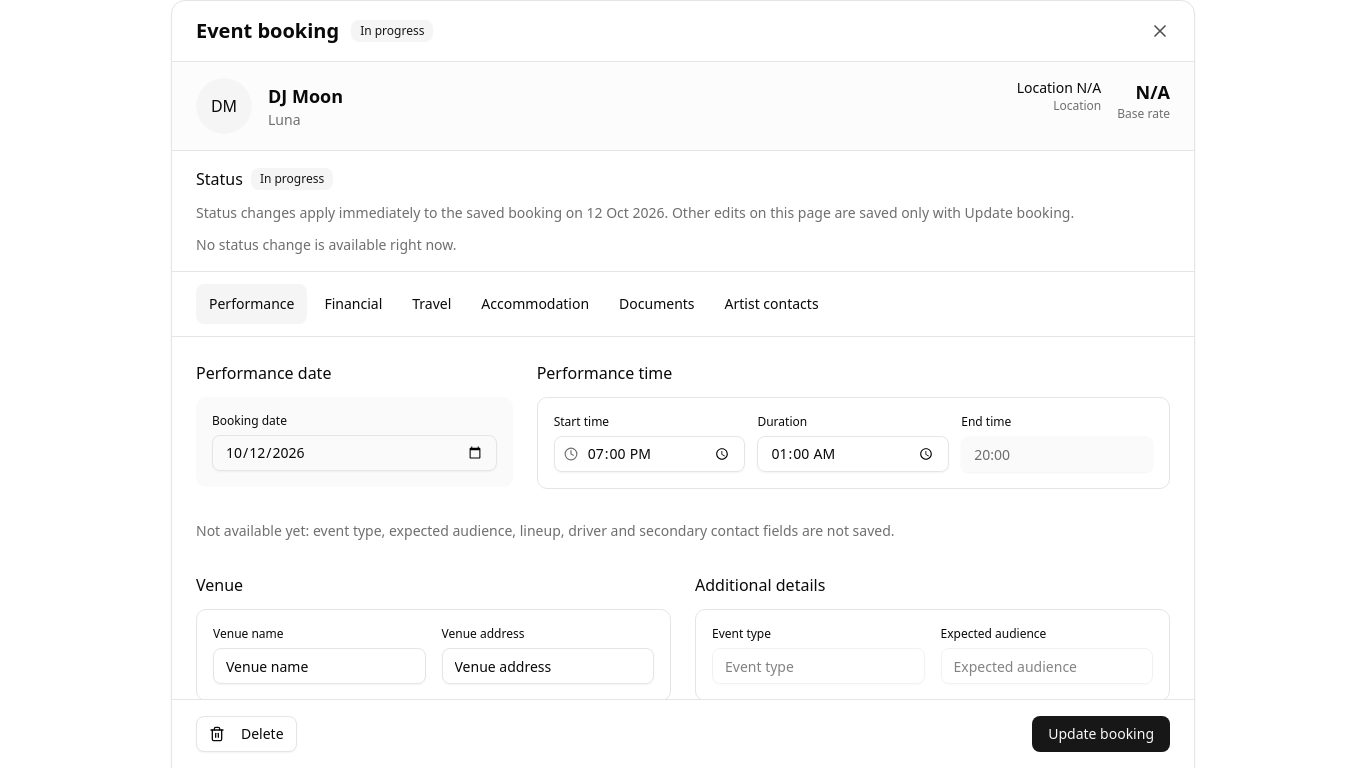
uses named keyboard tabs and retains Performance drafts across all panels
The width and height of the screenshot is (1366, 768).
Later steps or results of the test are not shown.
Type "Unsaved venue" into the field labelled "Venue name". click: (319, 666)
box: [213, 648, 426, 684]
(page scrolled)
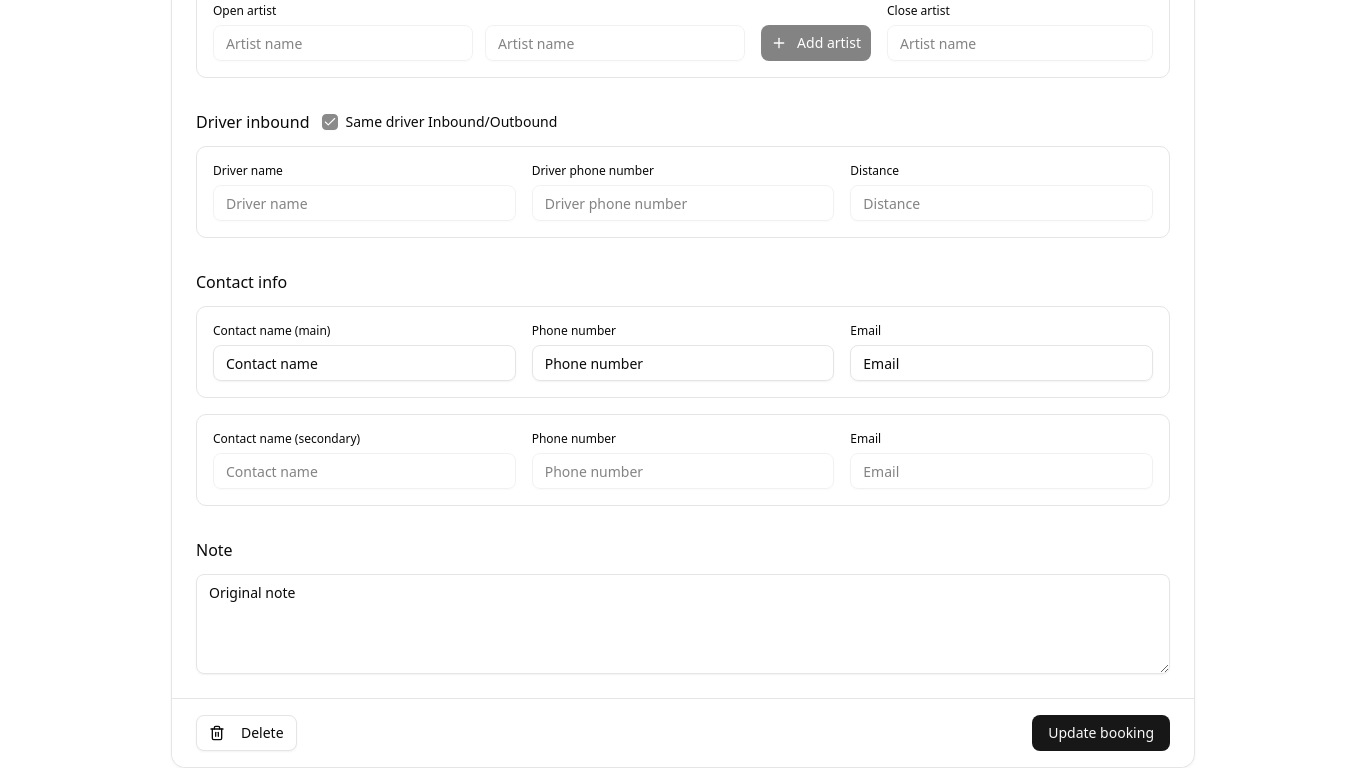
Replace the text in the text box labelled "Note" with "Unsaved note". click: (683, 624)
box: [196, 574, 1170, 674]
(page scrolled)
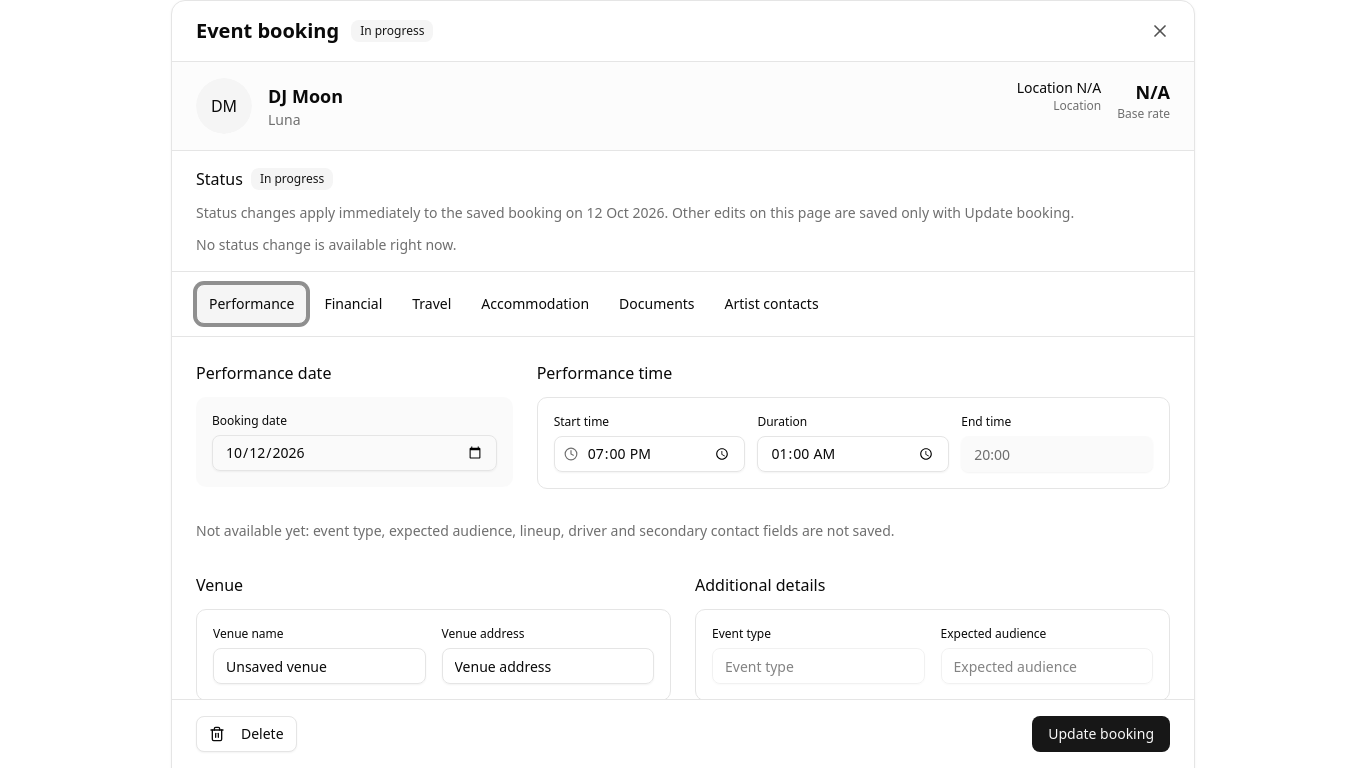
Press ArrowRight in the tab "Performance", box [196, 284, 307, 324]
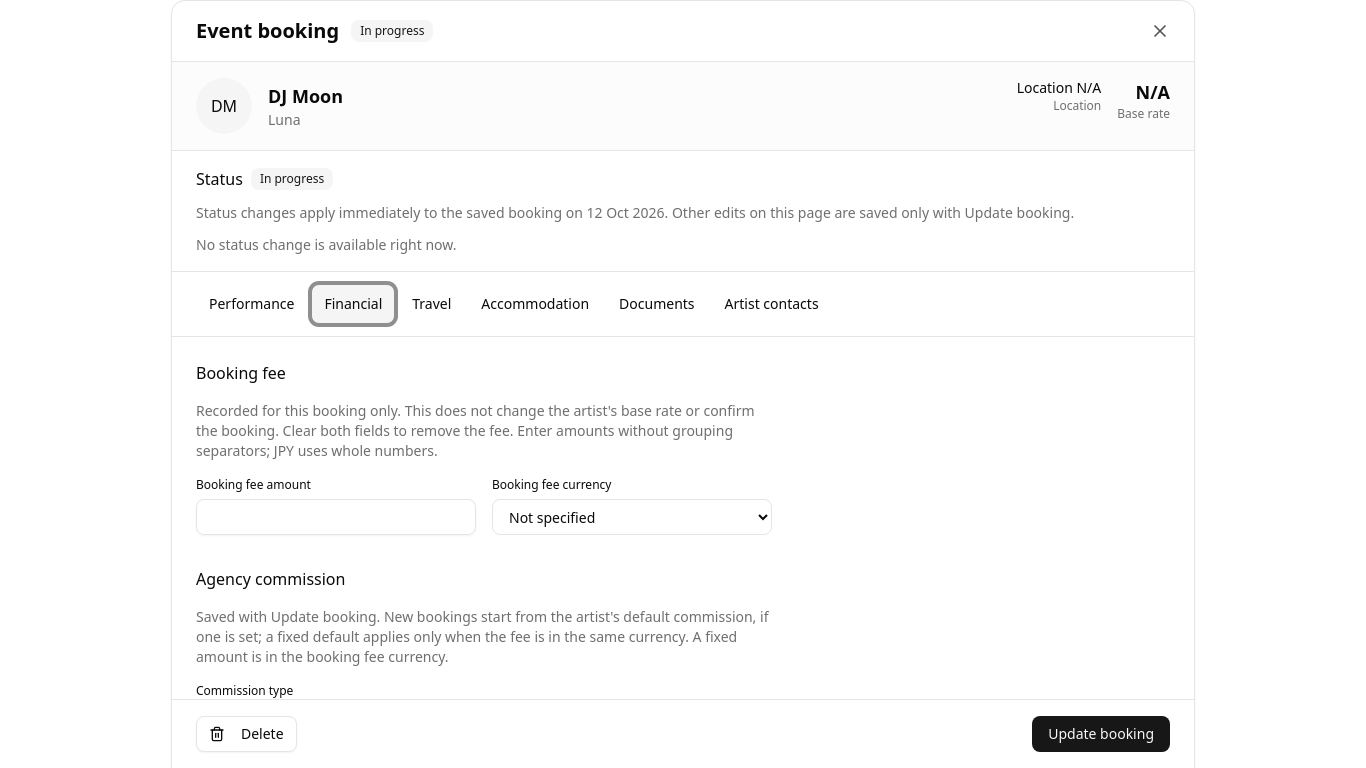
Now the field labelled "Booking fee amount" is shown, box [196, 499, 476, 535]
Press End in the tab "Financial", box [311, 284, 395, 324]
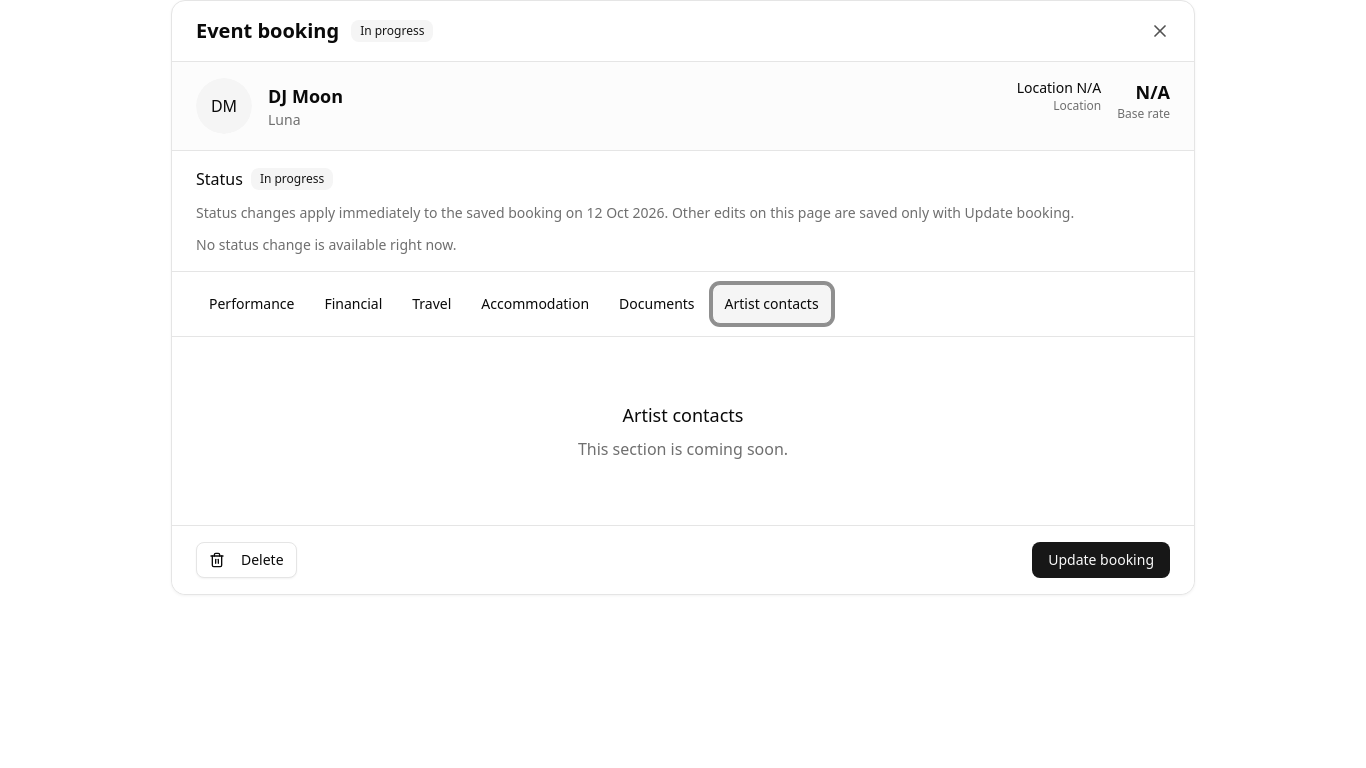
Press Home in the tab "Artist contacts", box [712, 284, 832, 324]
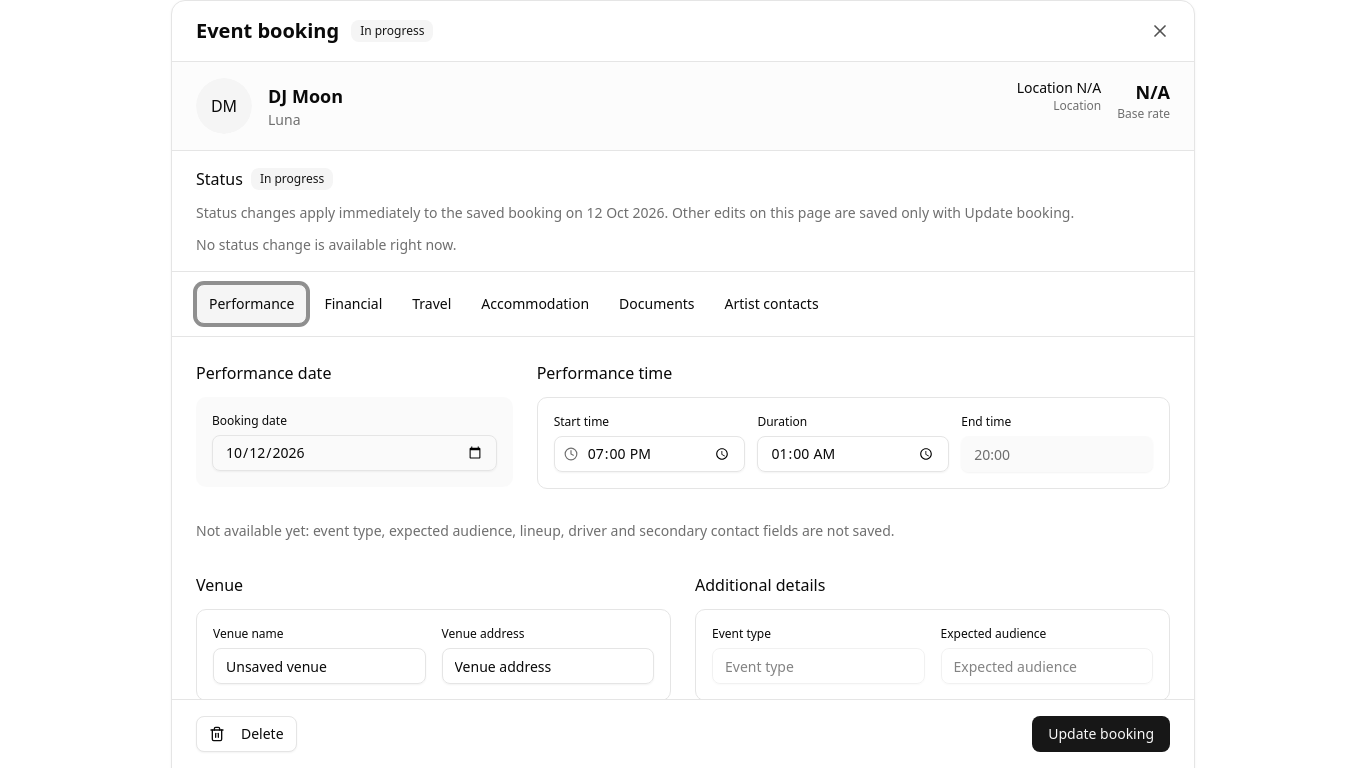
Now the field labelled "Venue name" holds "Unsaved venue", box [213, 648, 426, 684]
Press ArrowLeft in the tab "Performance", box [196, 284, 307, 324]
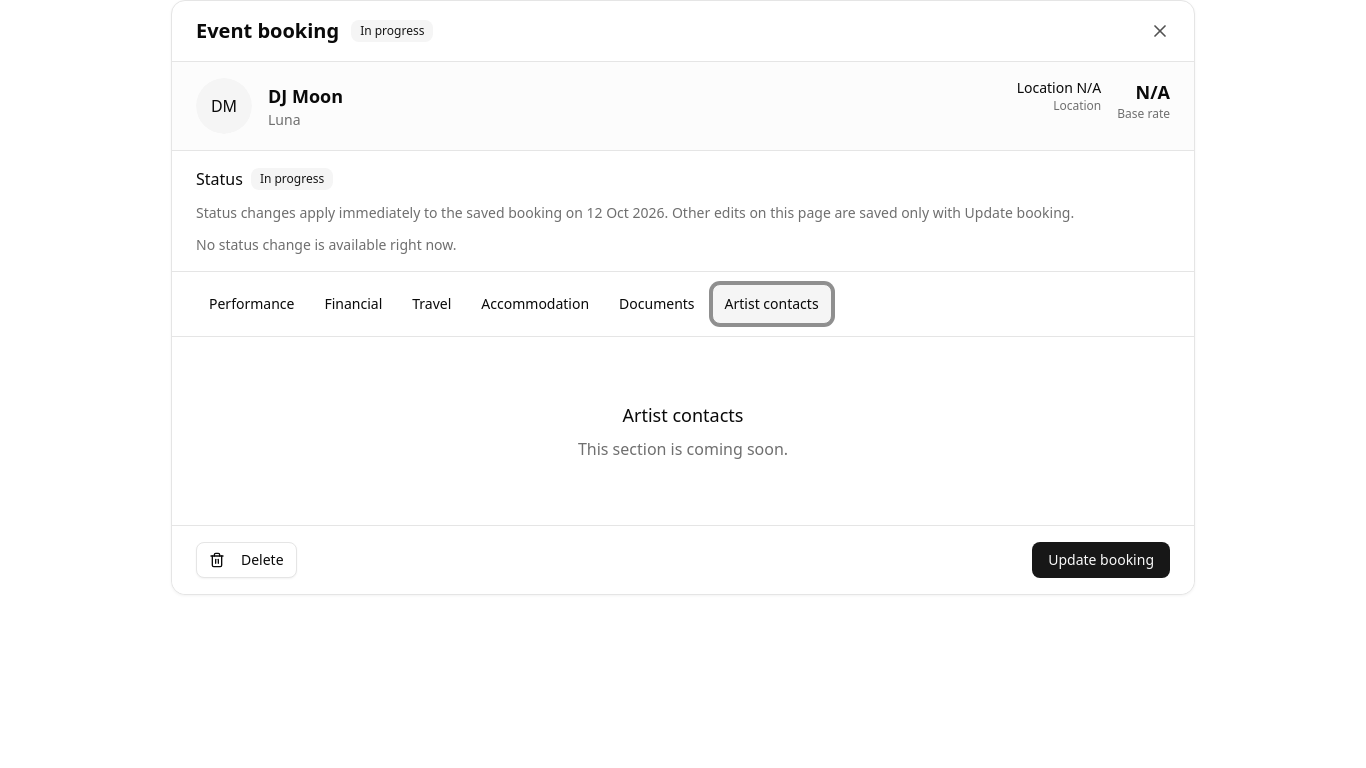
Now the panel "Artist contacts" shows "This section is coming soon.", box [578, 438, 788, 460]
